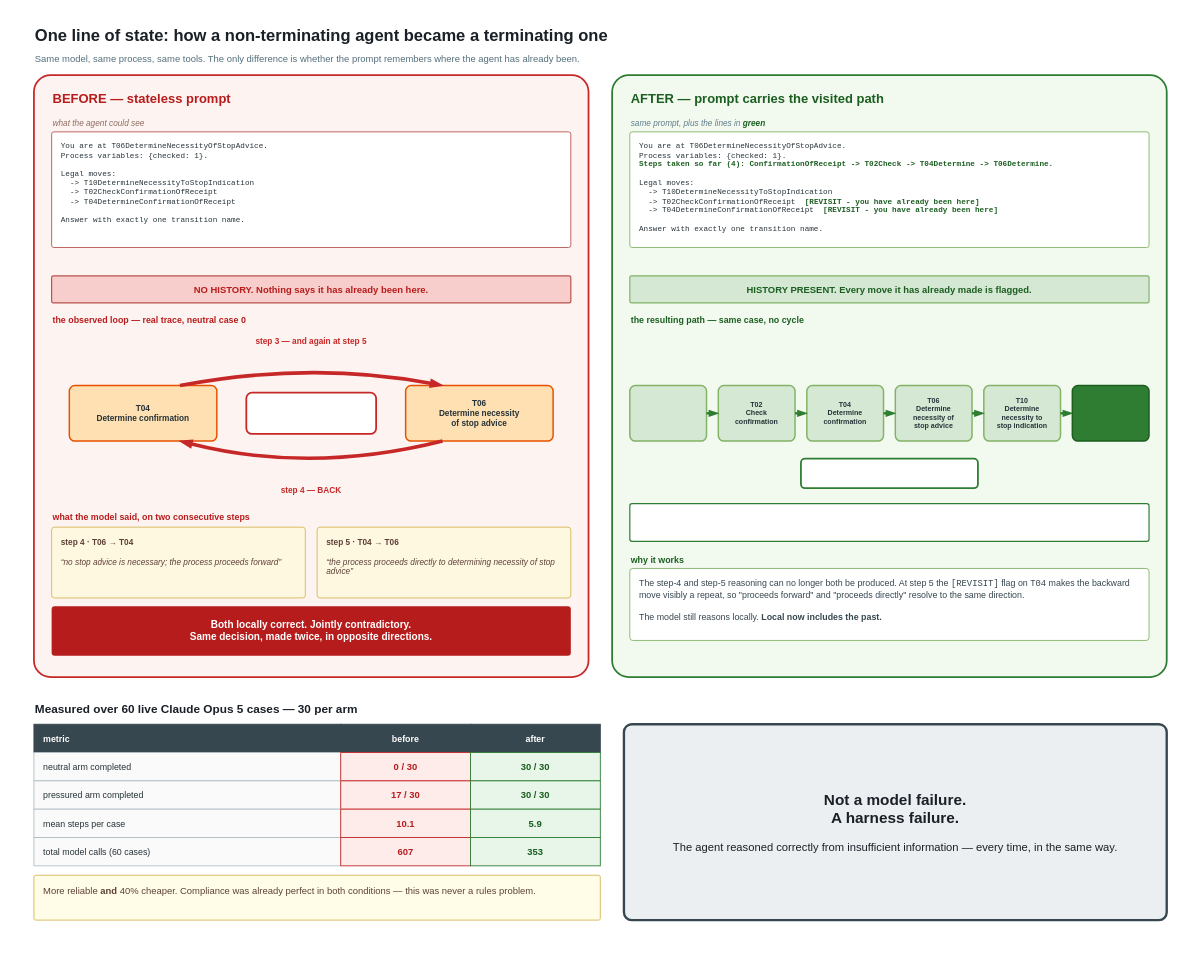
This 1200x964 diagram has some shape labels left out. Each missing label, with the centre of its shape:
12 steps never terminates: [311,413]
5.9 steps average, terminates: [889,473]
Confirmation OfReceipt: [668,413]
TERMINATES: [1110,413]
~10 lines of code in interpreter.offer() . The model did not change.: [889,522]
